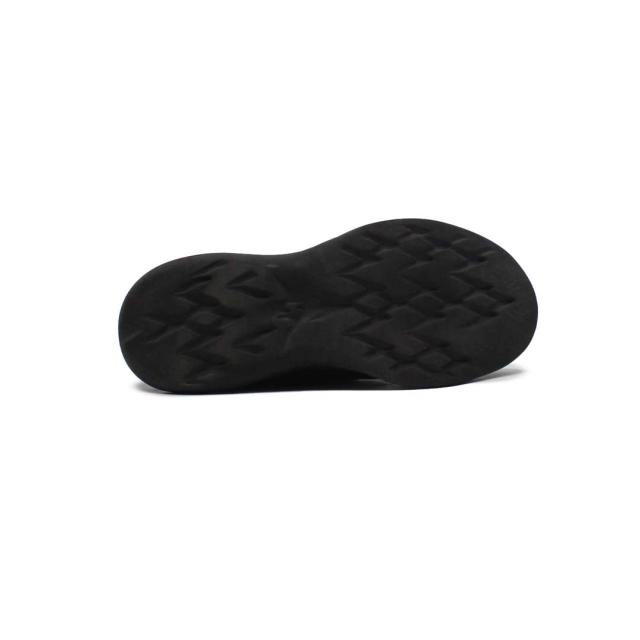outersole: (123, 218, 538, 390)
